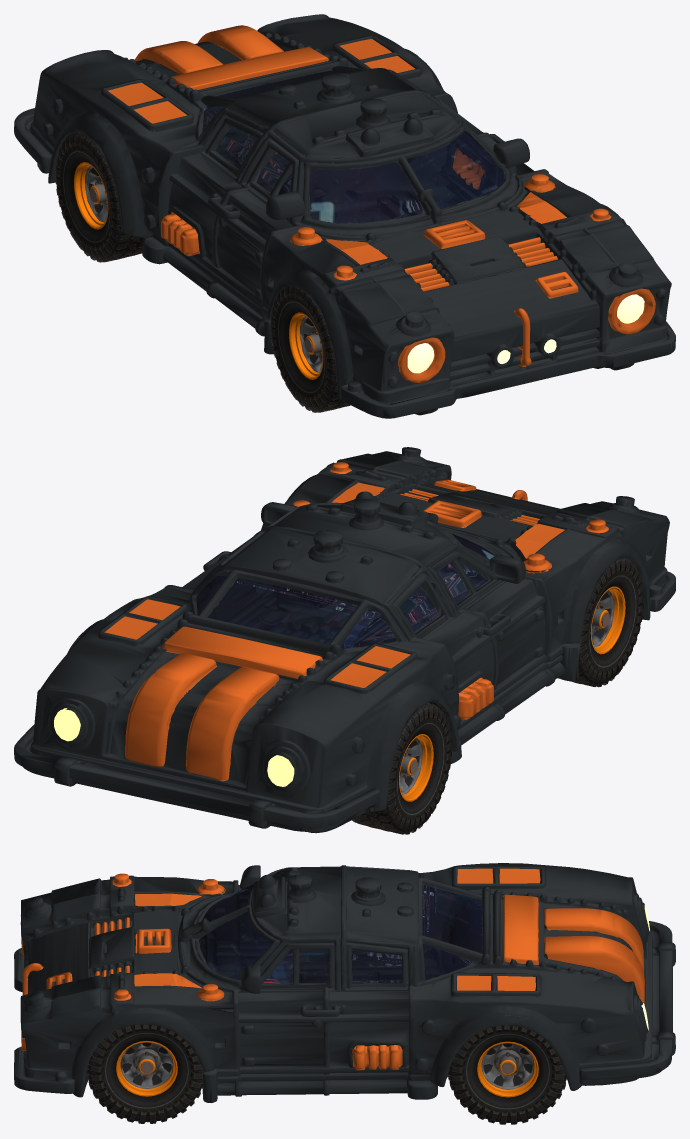
File: futuristic-muscle-car-launch-contr-47d7ff.glb
3 renders of one model, top to bottom at view 1: azimuth 30°, elevation 25°; view 2: azimuth 150°, elevation 25°; view 3: azimuth 270°, elevation 25°, orthographic. The views are drawn at different scales.
Parts seen in each view (by area): view 1: Plane_Body_gameasset_Mat_1_0, Plane_Body_gameasset_Mat_5_0, Wheel FL_gameasset_Wheel FL_gameasset_Mat_1_0, Plane_Body_gameasset_Mat_2_0, Plane_Body_gameasset_Mat_6_0; view 2: Plane_Body_gameasset_Mat_1_0, Plane_Body_gameasset_Mat_5_0, Wheel FL_gameasset_Wheel FL_gameasset_Mat_1_0, Plane_Body_gameasset_Mat_2_0, Plane_Body_gameasset_Mat_6_0; view 3: Plane_Body_gameasset_Mat_1_0, Wheel FL_gameasset_Wheel FL_gameasset_Mat_1_0, Plane_Body_gameasset_Mat_5_0, Plane_Body_gameasset_Mat_2_0.
Boxes of the visible parts, x1=… form: Plane_Body_gameasset_Mat_1_0: x1=14, y1=14, x2=675, y2=418; Plane_Body_gameasset_Mat_5_0: x1=108, y1=25, x2=655, y2=382; Wheel FL_gameasset_Wheel FL_gameasset_Mat_1_0: x1=55, y1=54, x2=538, y2=412; Plane_Body_gameasset_Mat_2_0: x1=202, y1=70, x2=504, y2=223; Plane_Body_gameasset_Mat_6_0: x1=407, y1=294, x2=644, y2=373; Plane_Body_gameasset_Mat_1_0: x1=14, y1=447, x2=675, y2=833; Plane_Body_gameasset_Mat_5_0: x1=104, y1=462, x2=608, y2=781; Wheel FL_gameasset_Wheel FL_gameasset_Mat_1_0: x1=78, y1=557, x2=644, y2=834; Plane_Body_gameasset_Mat_2_0: x1=196, y1=534, x2=494, y2=649; Plane_Body_gameasset_Mat_6_0: x1=54, y1=708, x2=294, y2=786; Plane_Body_gameasset_Mat_1_0: x1=14, y1=863, x2=675, y2=1102; Wheel FL_gameasset_Wheel FL_gameasset_Mat_1_0: x1=86, y1=893, x2=566, y2=1124; Plane_Body_gameasset_Mat_5_0: x1=20, y1=868, x2=644, y2=1070; Plane_Body_gameasset_Mat_2_0: x1=199, y1=884, x2=482, y2=983.
Size of the model in its own units: 2.62 by 1.51 by 5.
5 materials, 2 textured.
